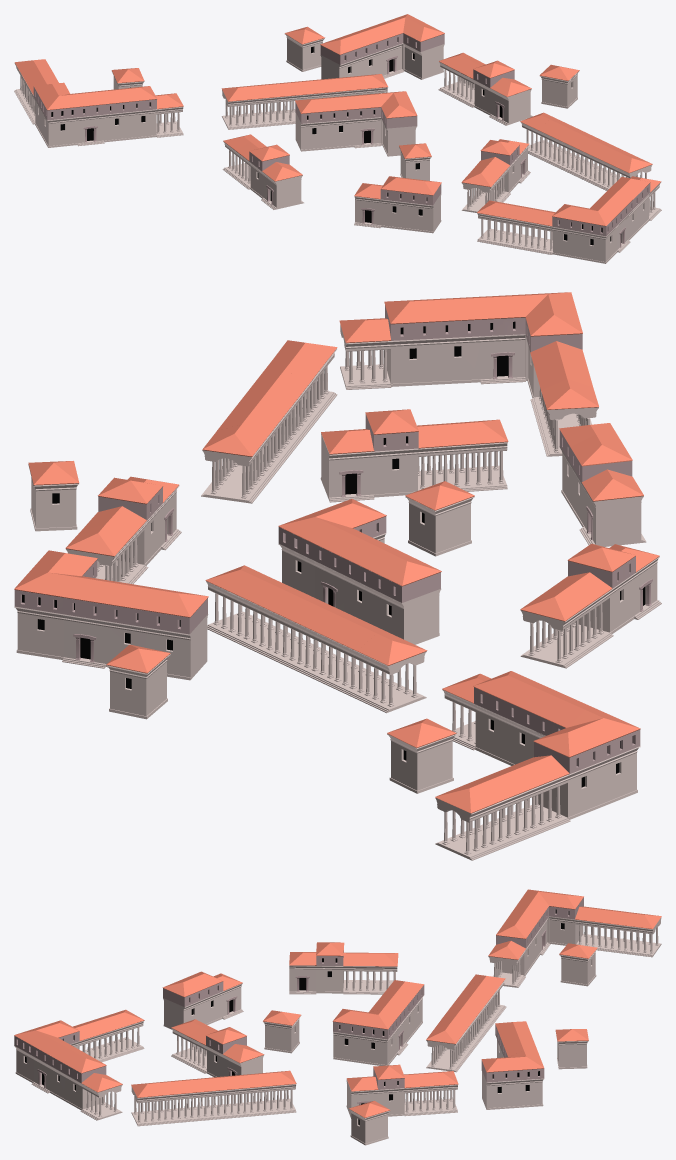
File: ville_003.fbx
The picture shows the model from 3 angles, top to bottom: view 1: azimuth 30°, elevation 25°; view 2: azimuth 150°, elevation 25°; view 3: azimuth 270°, elevation 25°; orthographic projection. The views are drawn at different scales.
Parts seen in each view (by area): view 1: Cube.133, Cube.230, Cube.132, Cube.143, Cube.181, Cube.135, Cube.134, Cube.199, Cube.136, Cube.204, Cube.146, Cube.213 (+2 smaller); view 2: Cube.230, Cube.133, Cube.143, Cube.135, Cube.132, Cube.204, Cube.181, Cube.136, Cube.199, Cube.134, Cube.116, Cube.148 (+2 smaller); view 3: Cube.133, Cube.230, Cube.181, Cube.132, Cube.136, Cube.143, Cube.135, Cube.134, Cube.204, Cube.199, Cube.146, Cube.116 (+2 smaller).
Part boxes in pixels (x1,y1,x2,y2): Cube.133: (477,176,661,263); Cube.230: (14,59,183,147); Cube.132: (295,91,417,156); Cube.143: (320,14,444,79); Cube.181: (520,112,652,190); Cube.135: (221,74,387,129); Cube.134: (438,52,532,125); Cube.199: (354,176,441,233); Cube.136: (222,134,303,209); Cube.204: (461,139,530,212); Cube.146: (539,64,579,108); Cube.213: (284,26,324,71); Cube.230: (435,671,640,860); Cube.133: (339,292,598,456); Cube.143: (14,550,208,680); Cube.135: (205,565,427,713); Cube.132: (278,499,441,644); Cube.204: (320,409,508,502); Cube.181: (201,340,337,503); Cube.136: (520,543,661,668); Cube.199: (559,423,646,546); Cube.134: (65,476,181,584); Cube.116: (387,718,456,793); Cube.148: (405,481,474,556); Cube.133: (14,1009,144,1120); Cube.230: (488,889,661,987); Cube.181: (131,1070,296,1126); Cube.132: (332,980,424,1065); Cube.136: (289,942,398,994); Cube.143: (481,1021,544,1109); Cube.135: (426,974,506,1072); Cube.134: (346,1064,458,1118); Cube.204: (171,1019,264,1077); Cube.199: (162,971,243,1029); Cube.146: (349,1100,390,1145); Cube.116: (559,943,597,986).
Bounding box in the file's own units: 1390 × 132 × 1742.
